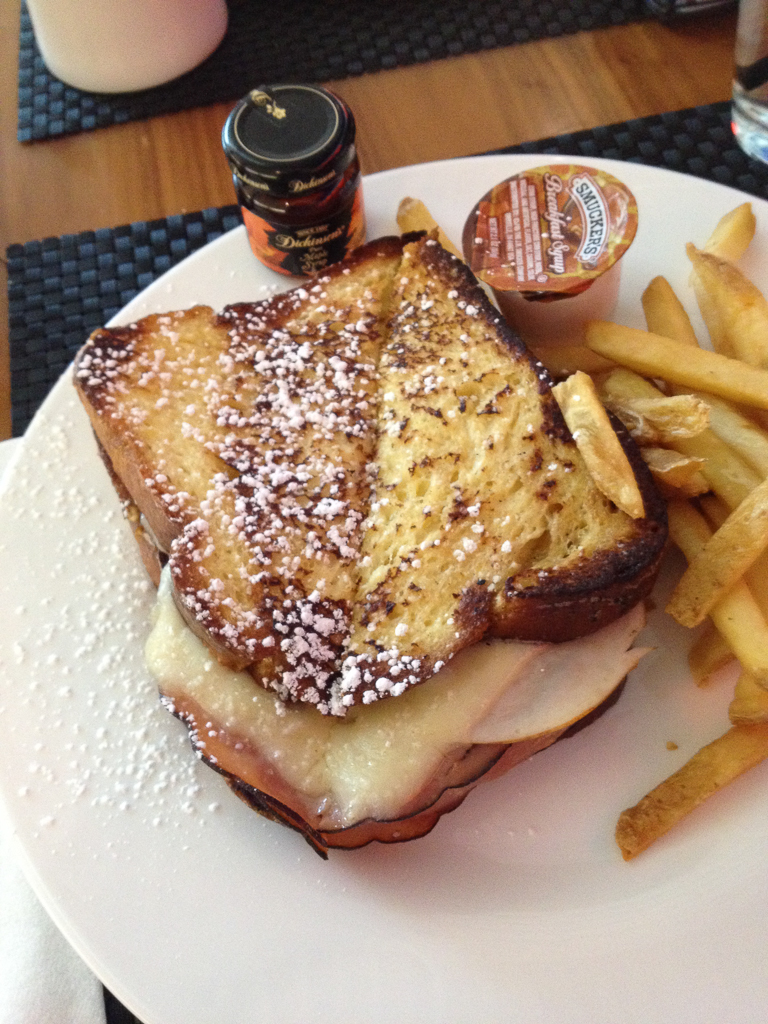French fries: (546, 186, 767, 867)
